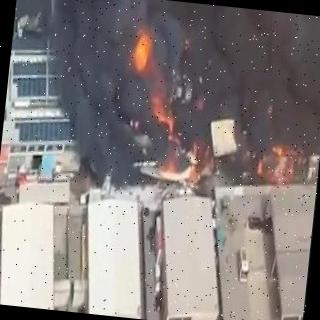smoke: (0, 3, 124, 176), (218, 7, 320, 124)
